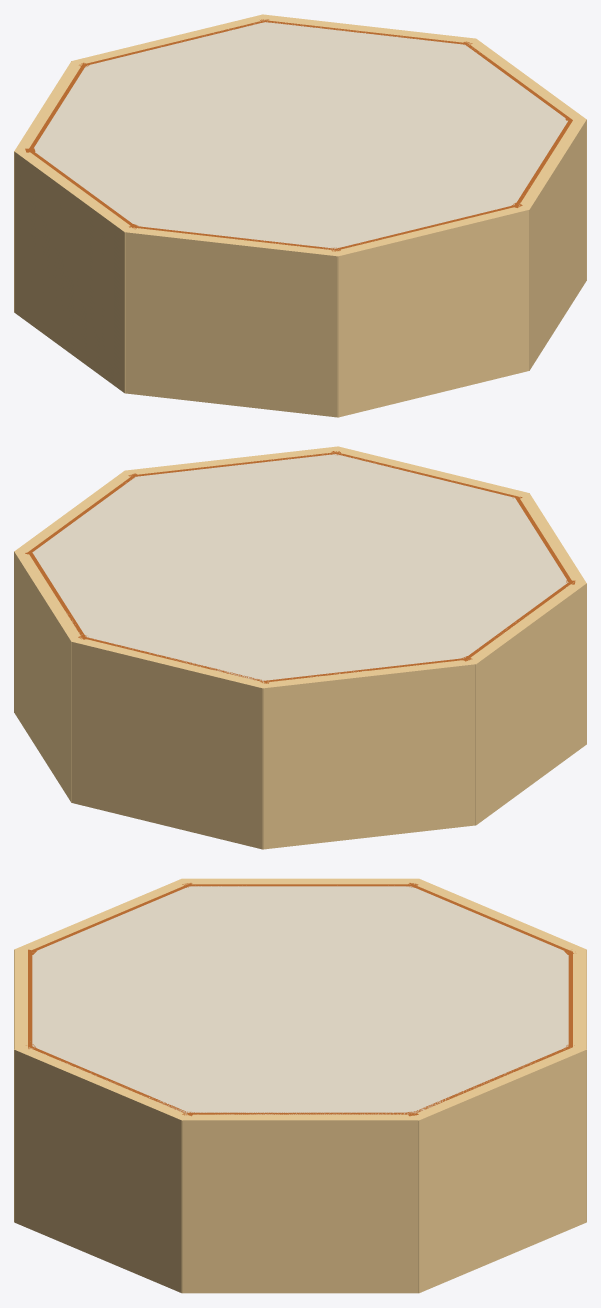
The model's file is ToonRoom.glb.
The picture shows the model from 3 angles, top to bottom: view 1: azimuth 30°, elevation 25°; view 2: azimuth 150°, elevation 25°; view 3: azimuth 270°, elevation 25°; orthographic projection. The views are drawn at different scales.
Visible parts, largest first — view 1: Ceiling, Wall_4, Wall_5, Wall_3, Wall_6, Wall_7, Wall_2, Wall_0, Wall_1; view 2: Ceiling, Wall_2, Wall_1, Wall_3, Wall_0, Wall_7, Wall_4, Wall_5, Wall_6; view 3: Ceiling, Wall_7, Wall_0, Wall_6, Wall_3, Wall_5, Wall_1, Wall_2, Wall_4, Crown_3, Crown_7, Crown_2 (+1 smaller).
Part boxes in pixels (x1,y1,x2,y2): Ceiling: [34, 21, 567, 249]; Wall_4: [124, 227, 341, 417]; Wall_5: [334, 205, 529, 417]; Wall_3: [14, 149, 133, 393]; Wall_6: [517, 119, 586, 370]; Wall_7: [468, 38, 586, 280]; Wall_2: [14, 61, 82, 312]; Wall_0: [259, 14, 476, 43]; Wall_1: [71, 14, 267, 65]; Ceiling: [32, 453, 568, 681]; Wall_2: [260, 659, 476, 849]; Wall_1: [71, 638, 269, 849]; Wall_3: [467, 580, 586, 825]; Wall_0: [14, 550, 83, 802]; Wall_7: [14, 470, 134, 712]; Wall_4: [518, 493, 586, 744]; Wall_5: [332, 446, 529, 497]; Wall_6: [124, 446, 341, 475]; Ceiling: [29, 886, 568, 1114]; Wall_7: [181, 1114, 419, 1293]; Wall_0: [409, 1045, 586, 1293]; Wall_6: [14, 1048, 191, 1293]; Wall_3: [181, 878, 417, 884]; Wall_5: [14, 949, 27, 1222]; Wall_1: [573, 949, 586, 1222]; Wall_2: [409, 878, 586, 1048]; Wall_4: [14, 879, 189, 1048]; Crown_3: [187, 884, 412, 886]; Crown_7: [188, 1112, 413, 1114]; Crown_2: [410, 884, 571, 952].
Size of the model in its own units: 12.61 by 4.2 by 12.61.
